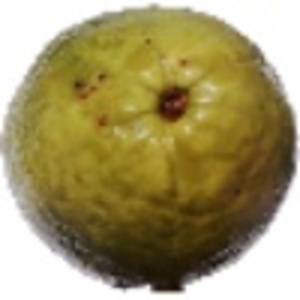goiaba: (3, 7, 295, 285)
